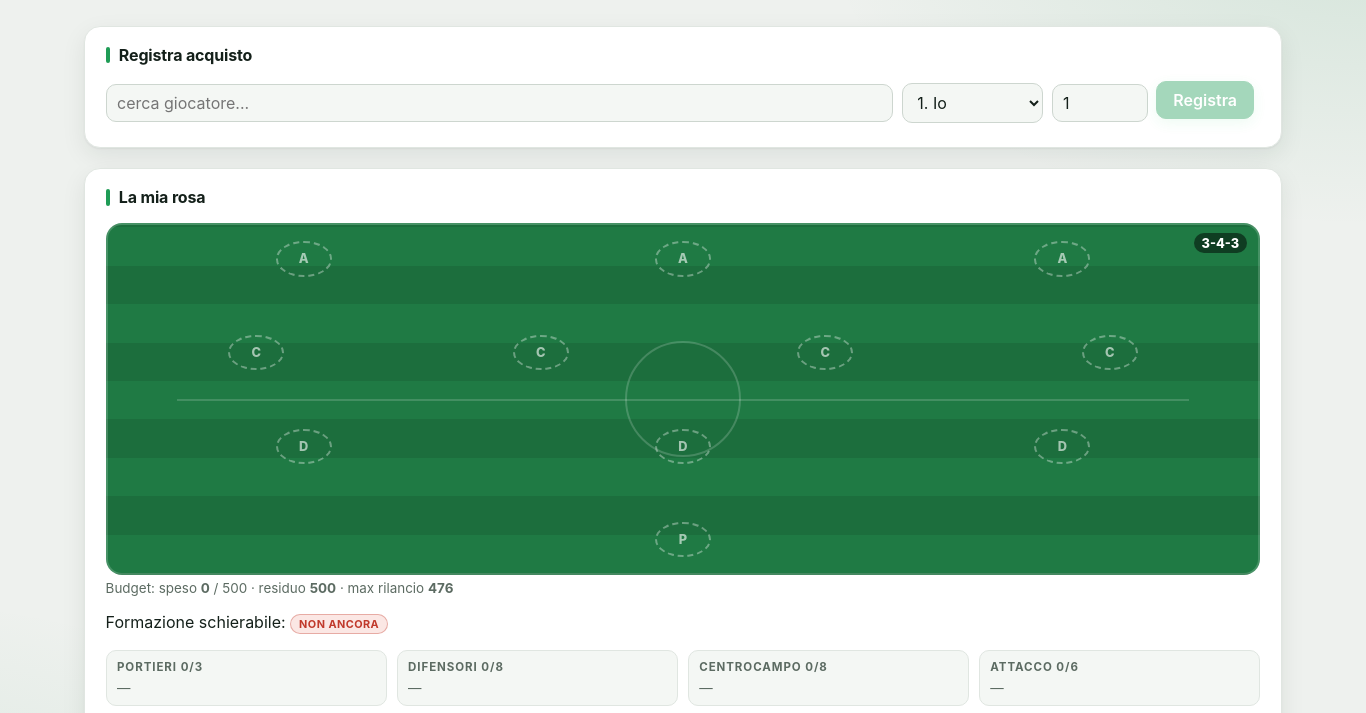
Test case: AstaTab › registra un acquisto e aggiorna il cruscotto
This screenshot has width=1366, height=713.
In the field labelled "giocatore": (499, 103) top-left (106, 84), bottom-right (893, 122), type "Lautaro (Inter, A)"
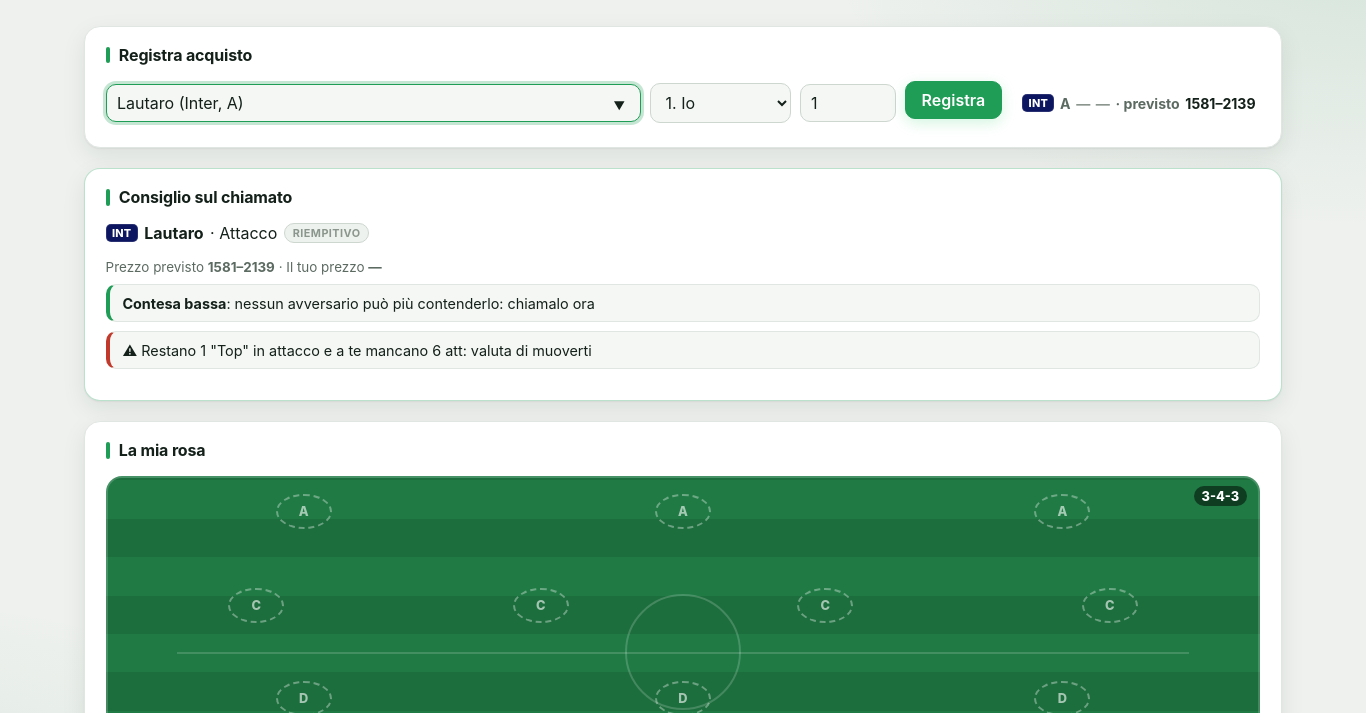
Select "2. Squadra 2" in the dropdown named "Squadra acquirente": (720, 103) top-left (650, 83), bottom-right (791, 123)
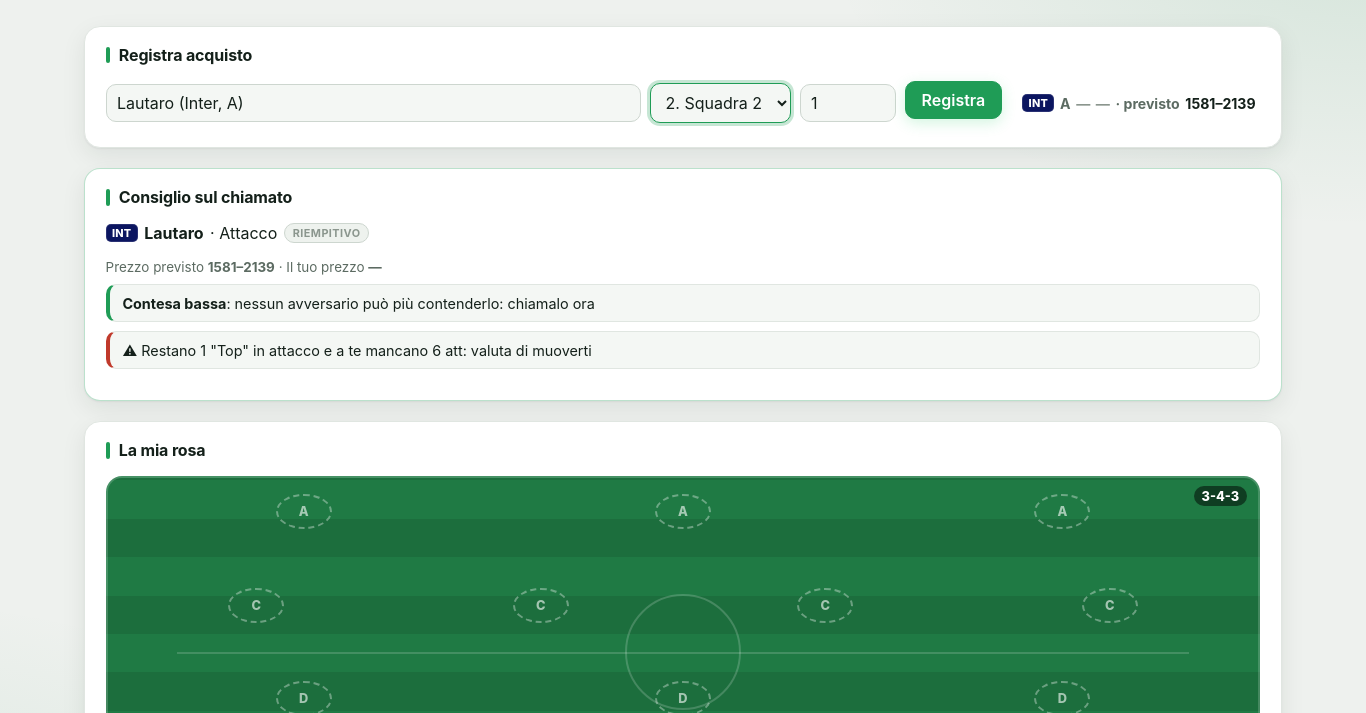
Replace the text in the number field named "Prezzo" with "200": (848, 103) top-left (800, 84), bottom-right (896, 122)
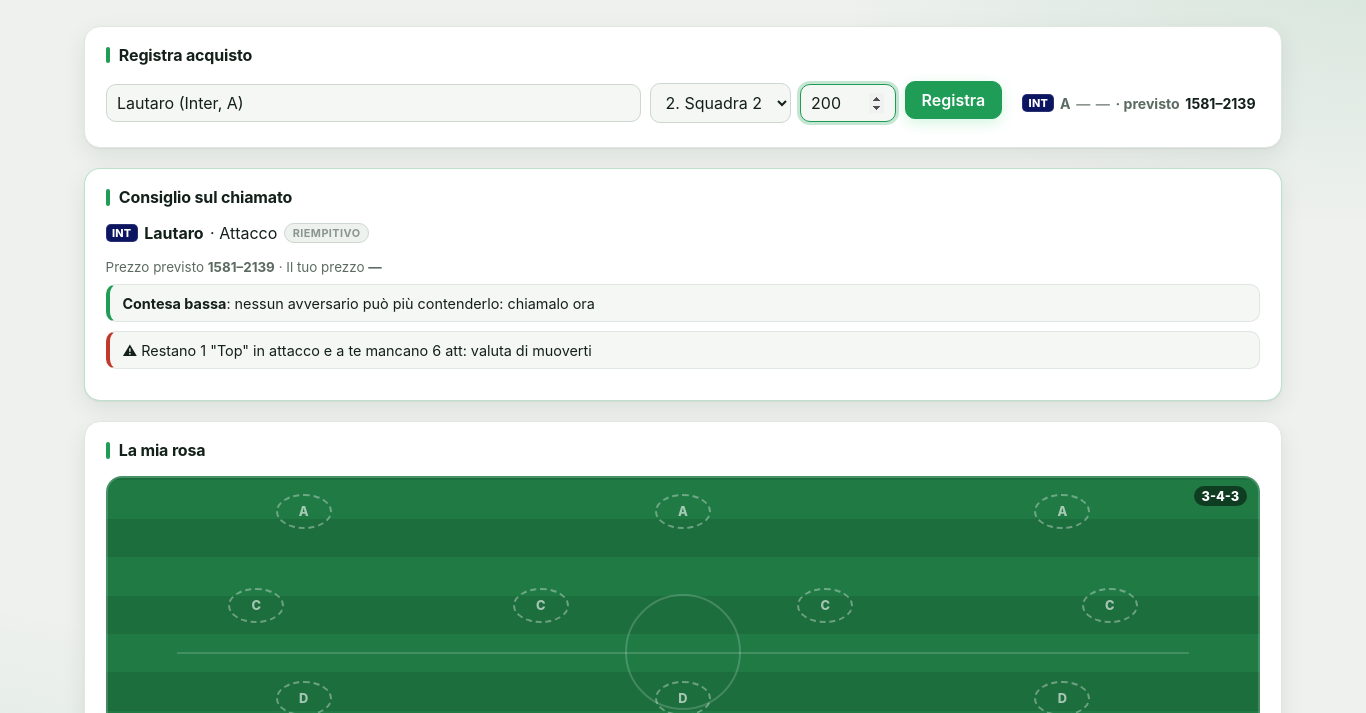
Click the button "Registra": (953, 100) top-left (904, 81), bottom-right (1002, 119)
(page scrolled)
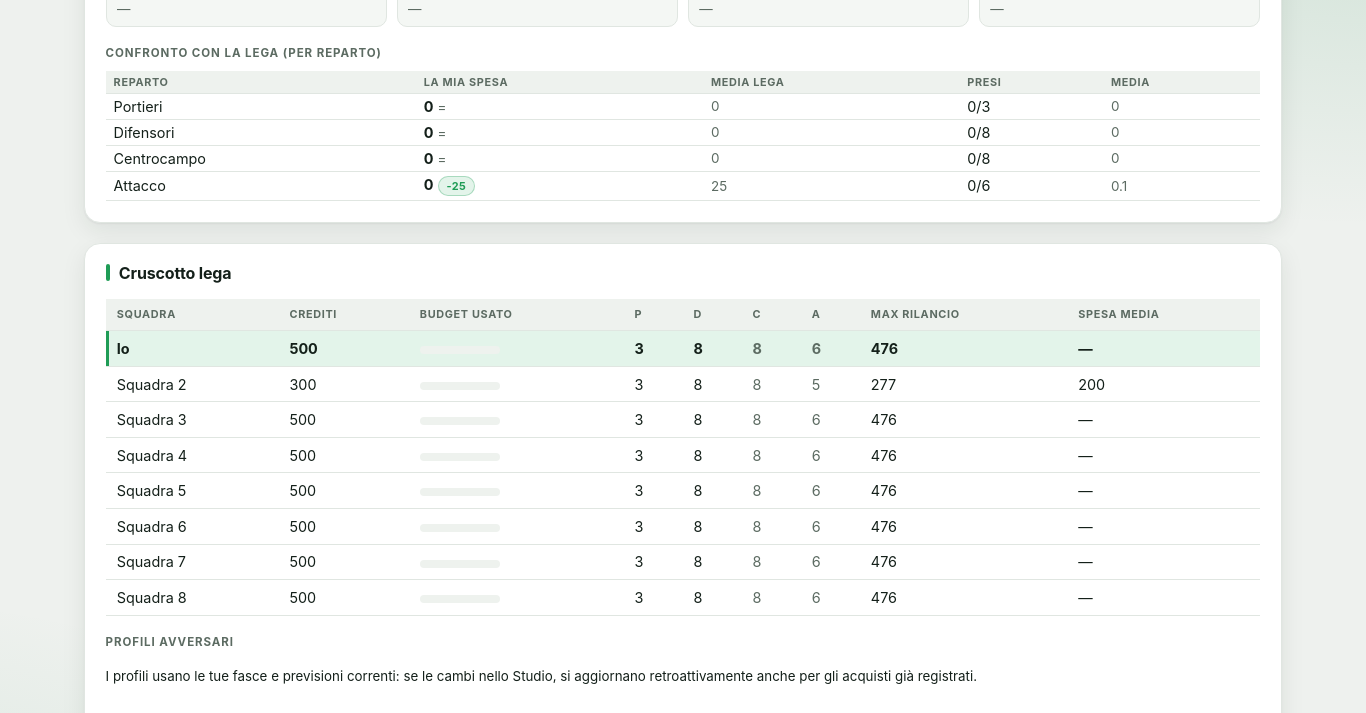
Expected: the text "300" is shown, top-left (278, 366), bottom-right (409, 402)
